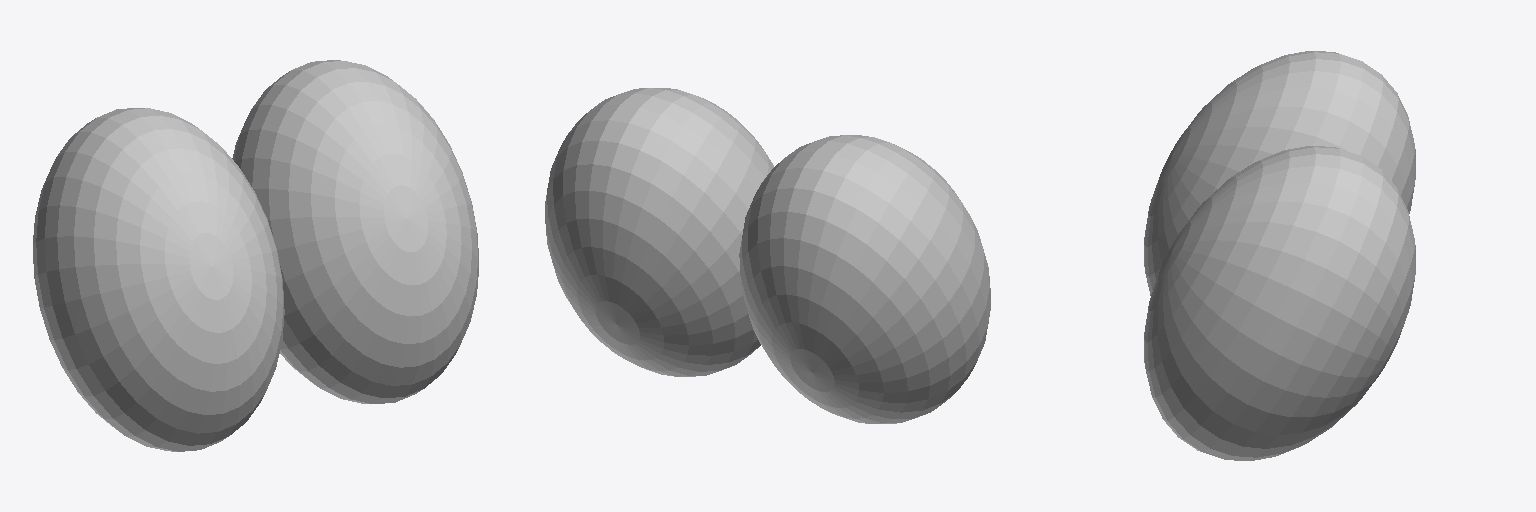
Rendered from ojos.obj.
3 renders of one model, left to right at view 1: azimuth 30°, elevation 25°; view 2: azimuth 150°, elevation 25°; view 3: azimuth 270°, elevation 25°, orthographic.
Visible parts, largest first — view 1: Sphere.001_Sphere.003, Sphere.002; view 2: Sphere.001_Sphere.003, Sphere.002; view 3: Sphere.002, Sphere.001_Sphere.003.
Part boxes in pixels (x1,y1,x2,y2): Sphere.001_Sphere.003: (33,108,284,451); Sphere.002: (232,60,478,403); Sphere.001_Sphere.003: (739,135,990,423); Sphere.002: (545,88,773,376); Sphere.002: (1144,146,1415,460); Sphere.001_Sphere.003: (1144,51,1415,295).
Bounding box in the file's own units: 0.3037 × 0.213 × 0.1759.